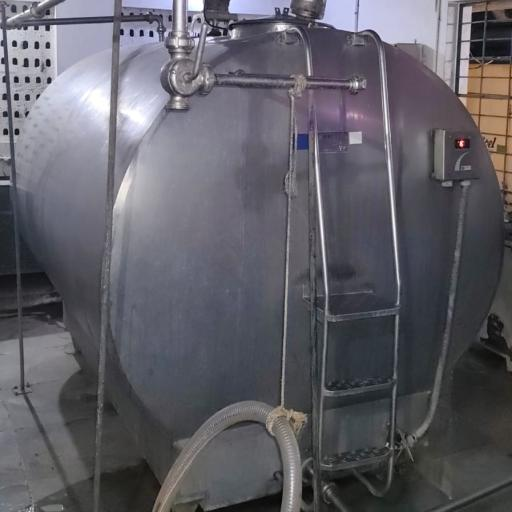silo: (10, 14, 505, 506)
